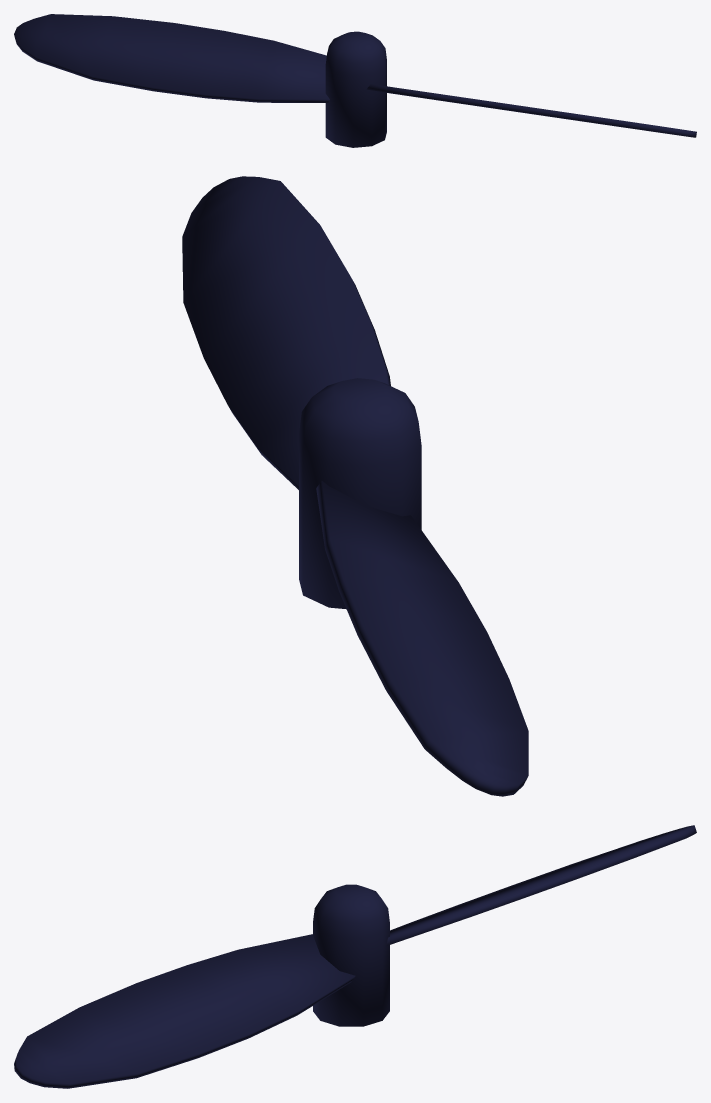
Rendered from propellor_01_blue.f25f08eb.glb.
3 views of the same model, one above another, from view 1: azimuth 30°, elevation 25°; view 2: azimuth 150°, elevation 25°; view 3: azimuth 270°, elevation 25° (orthographic). The views are drawn at different scales.
Parts seen in each view (by area): view 1: Circle.005; view 2: Circle.005; view 3: Circle.005.
Part boxes in pixels (box(x1,y1,x2,y2)): Circle.005: box(14, 14, 696, 147); Circle.005: box(182, 176, 528, 796); Circle.005: box(14, 825, 696, 1088).
Size of the model in its own units: 2.25 by 0.5037 by 2.6.
